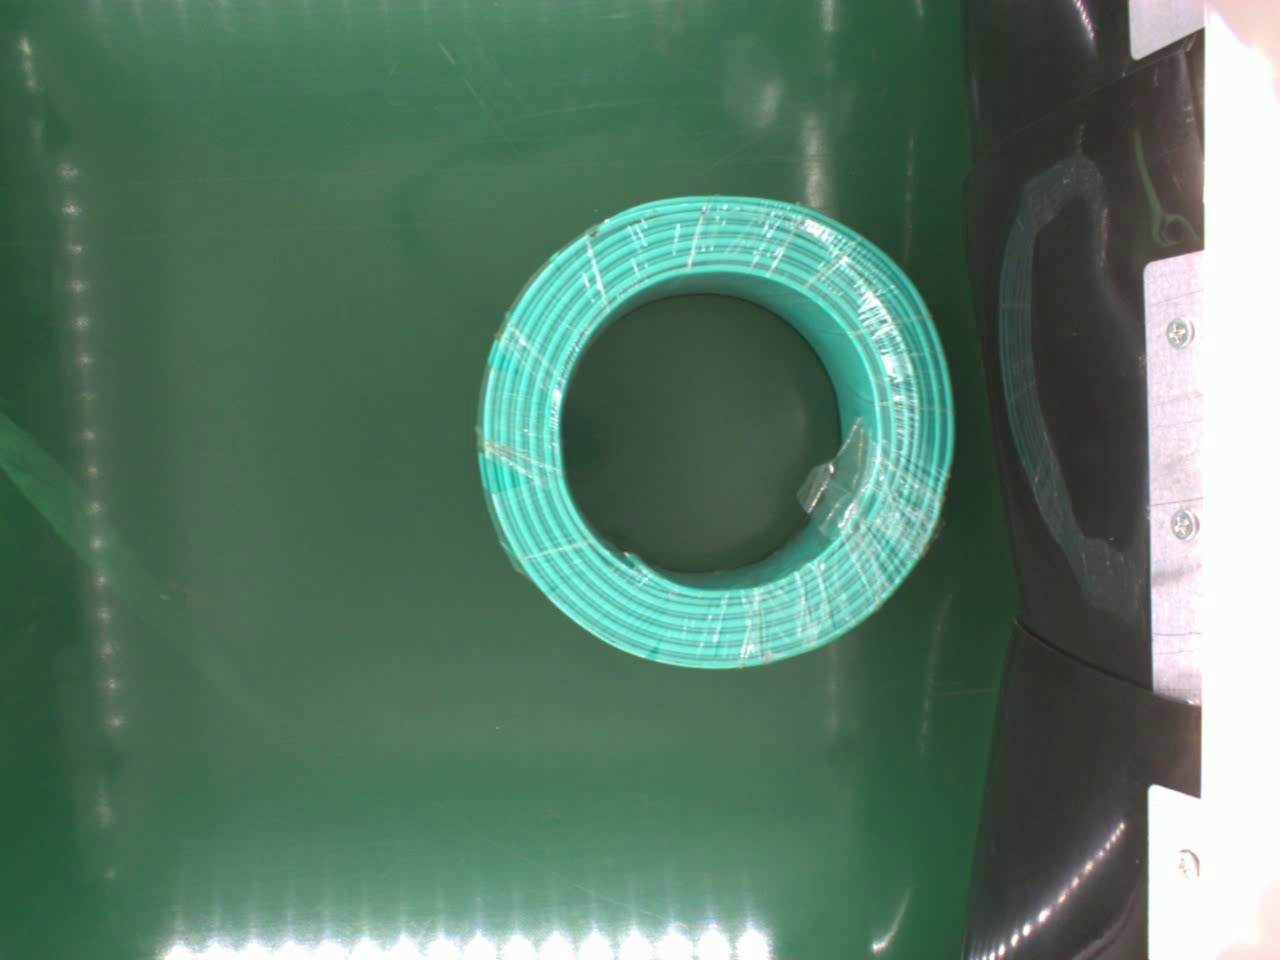green: (470, 189, 958, 673)
